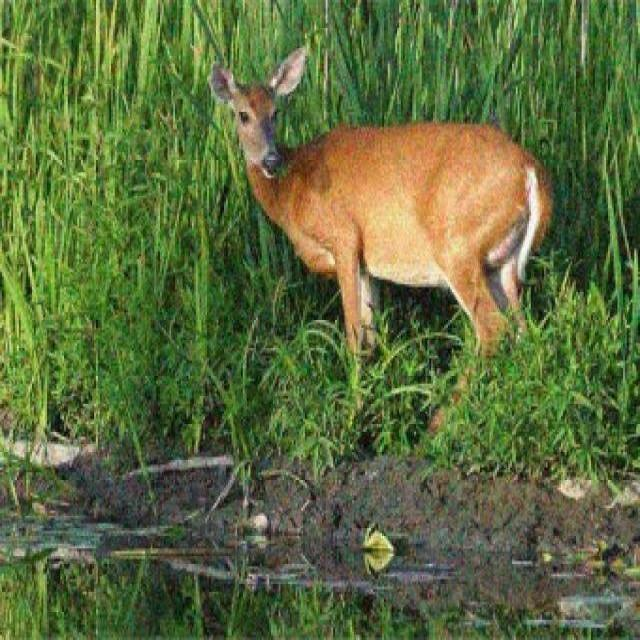deer: (198, 40, 565, 431)
